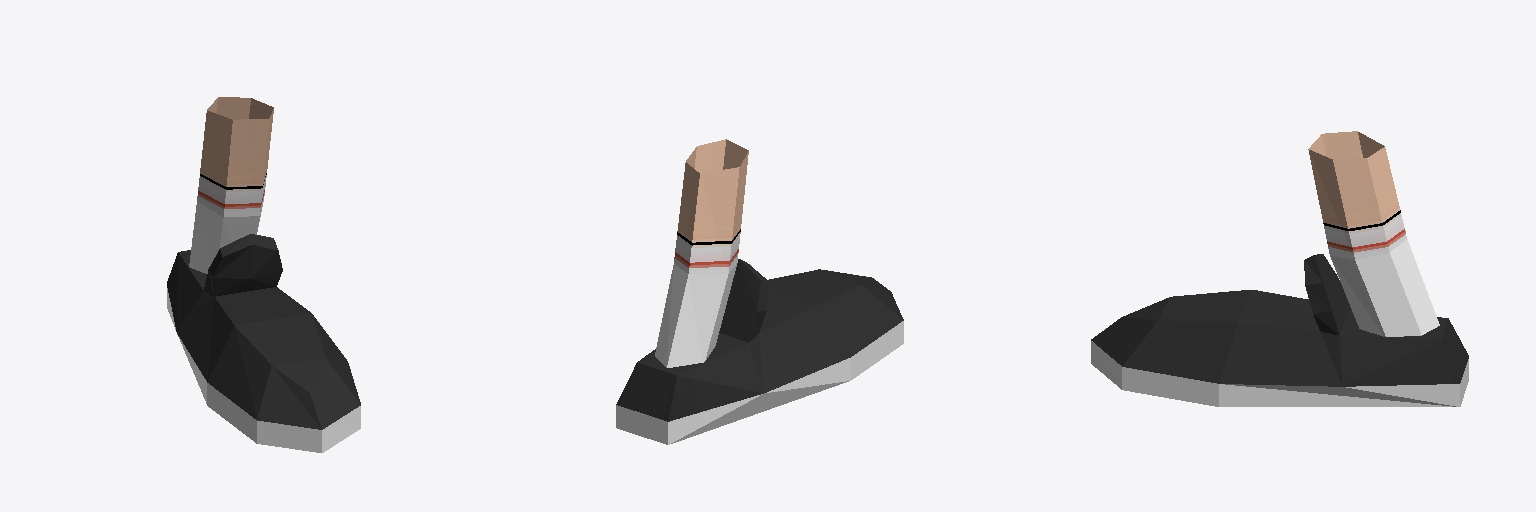
3 renders of one model, left to right at view 1: azimuth 30°, elevation 25°; view 2: azimuth 150°, elevation 25°; view 3: azimuth 270°, elevation 25°, orthographic.
Visible parts, largest first — view 1: piernaDipper_der; view 2: piernaDipper_der; view 3: piernaDipper_der.
Boxes of the visible parts, x1=… form: piernaDipper_der: x1=167, y1=97, x2=360, y2=452; piernaDipper_der: x1=616, y1=139, x2=903, y2=444; piernaDipper_der: x1=1091, y1=131, x2=1468, y2=406.
Bounding box in the file's own units: 0.1963 × 0.3369 × 0.4765.
1 materials, 1 textured.